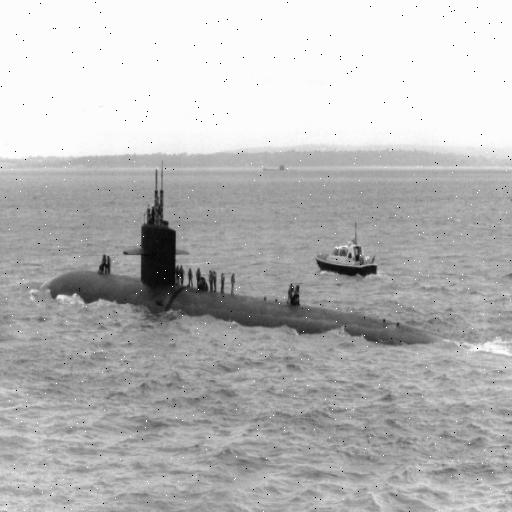submarine: (42, 159, 512, 359)
